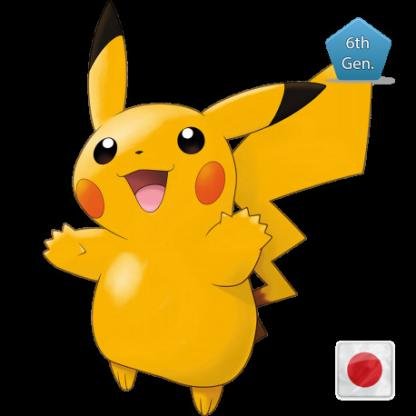Pikachu: (32, 1, 351, 416)
